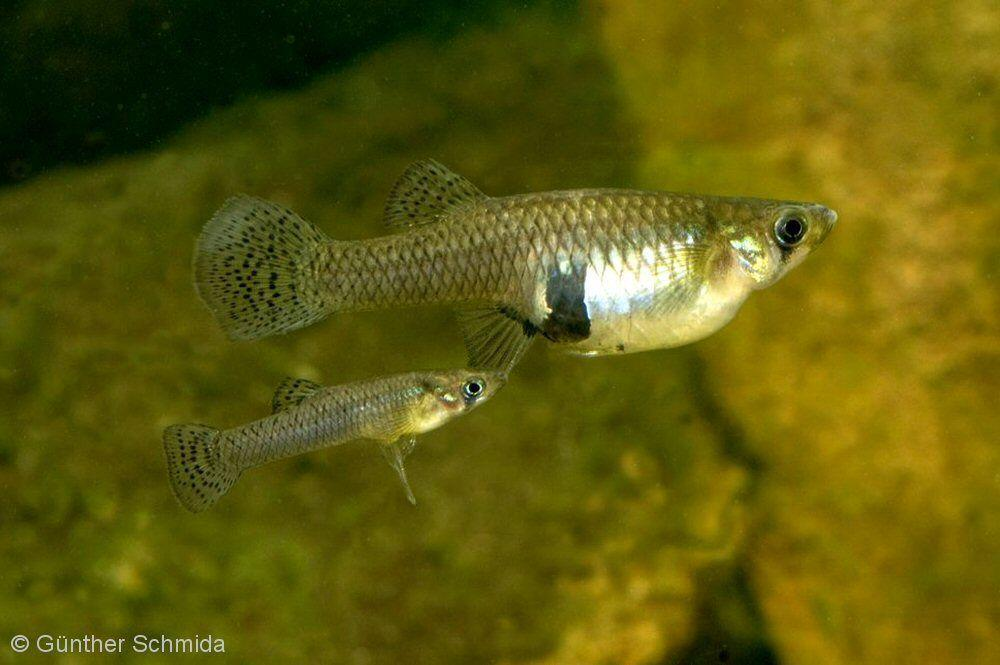Mosquito Fish: (187, 165, 842, 365), (162, 368, 507, 508)
